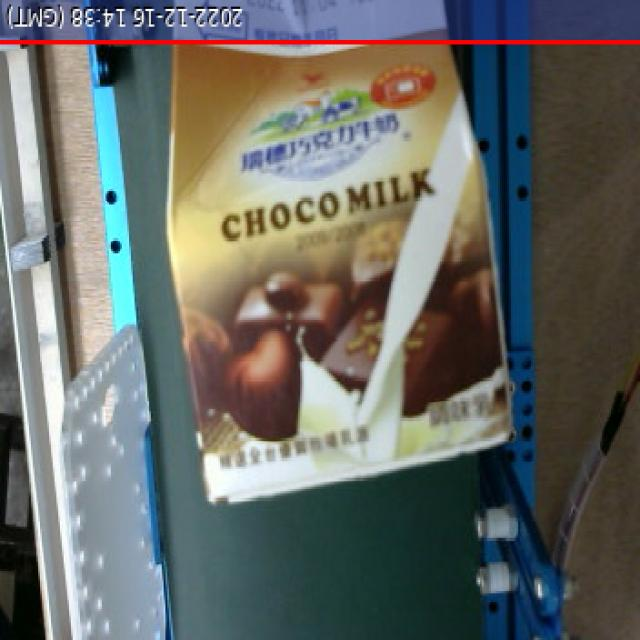non_white_jug: (156, 3, 524, 514)
